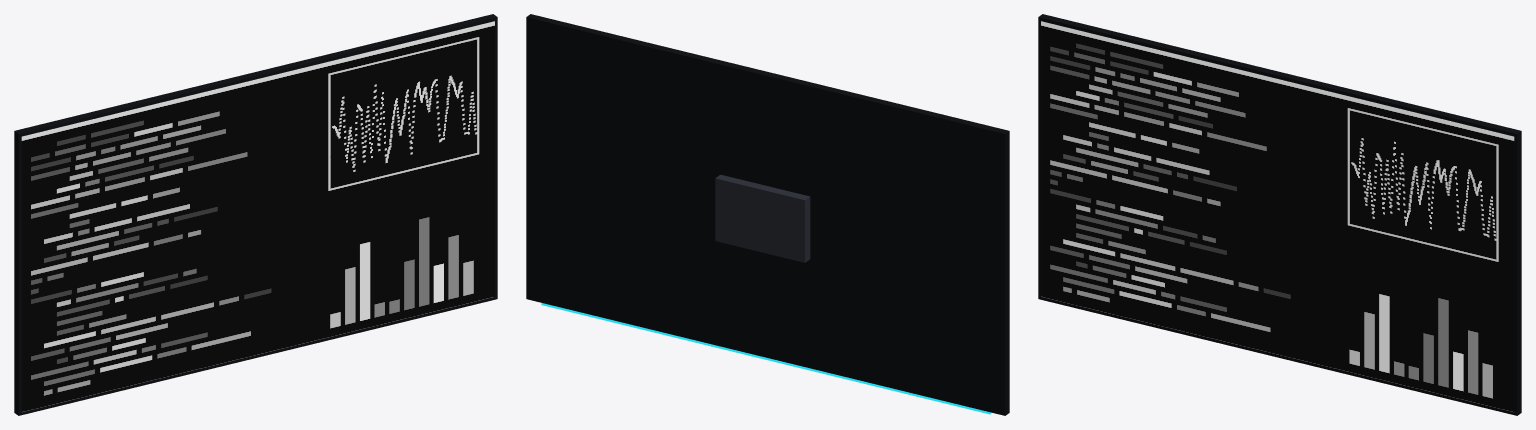
The model's file is Tech_WallDisplay.glb.
3 renders of one model, left to right at view 1: azimuth 30°, elevation 25°; view 2: azimuth 150°, elevation 25°; view 3: azimuth 330°, elevation 25°, orthographic.
Parts seen in each view (by area): view 1: Tech_WallDisplay; view 2: Tech_WallDisplay; view 3: Tech_WallDisplay.
Part boxes in pixels (x1=…): Tech_WallDisplay: x1=14, y1=14, x2=497, y2=415; Tech_WallDisplay: x1=526, y1=14, x2=1009, y2=415; Tech_WallDisplay: x1=1038, y1=14, x2=1521, y2=415.
Bounding box in the file's own units: 1.6 × 0.907 × 0.0585.
4 materials, 1 textured.
